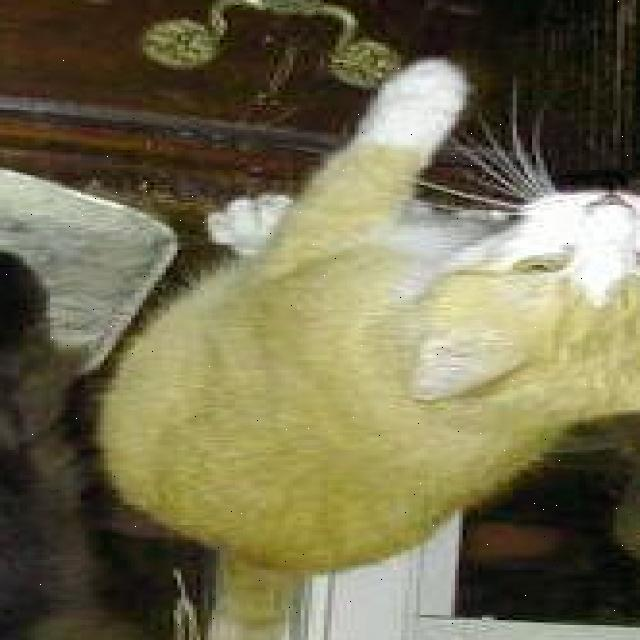Cat: (405, 163, 640, 425)
